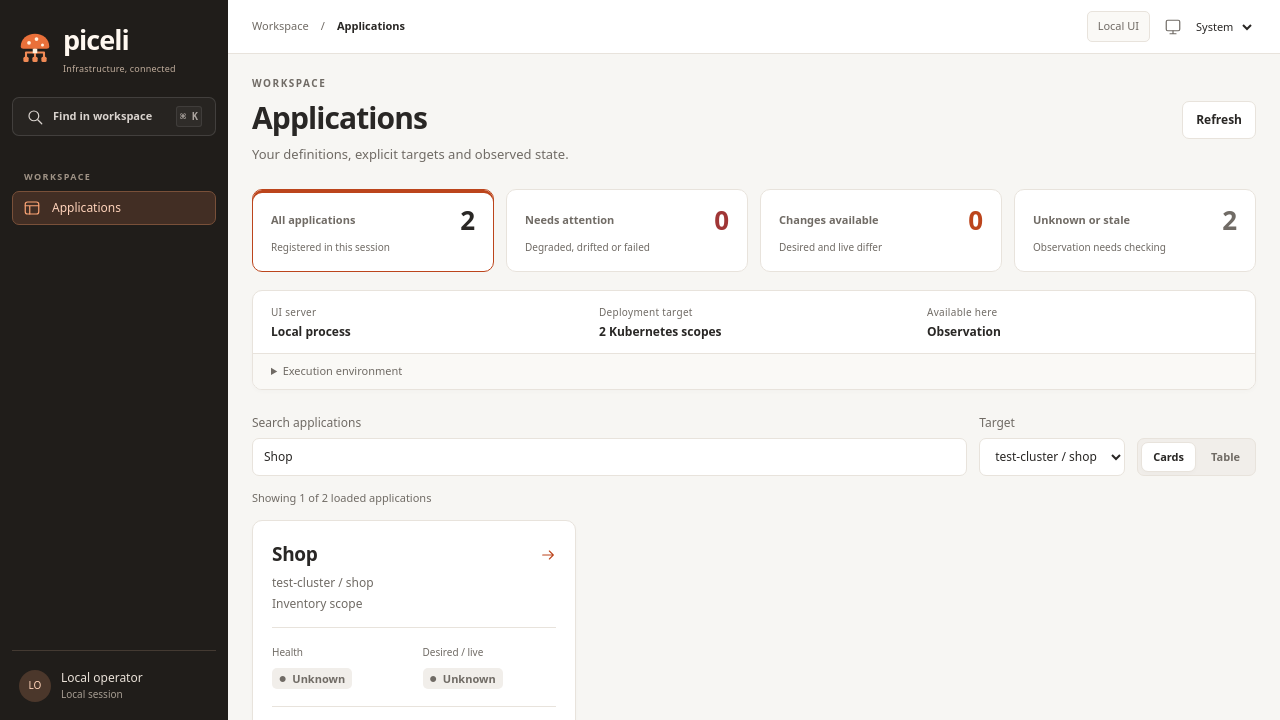
Test case: navigation and session capabilities › combines deep-linked application search and target filters without losing either
Check: the link "Shop" is shown, box [272, 540, 556, 569]
Check: the link "Tools" is not shown
Select "test-cluster / tools" in the dropdown labelled "Target" at point(1052, 457), box [979, 438, 1125, 476]
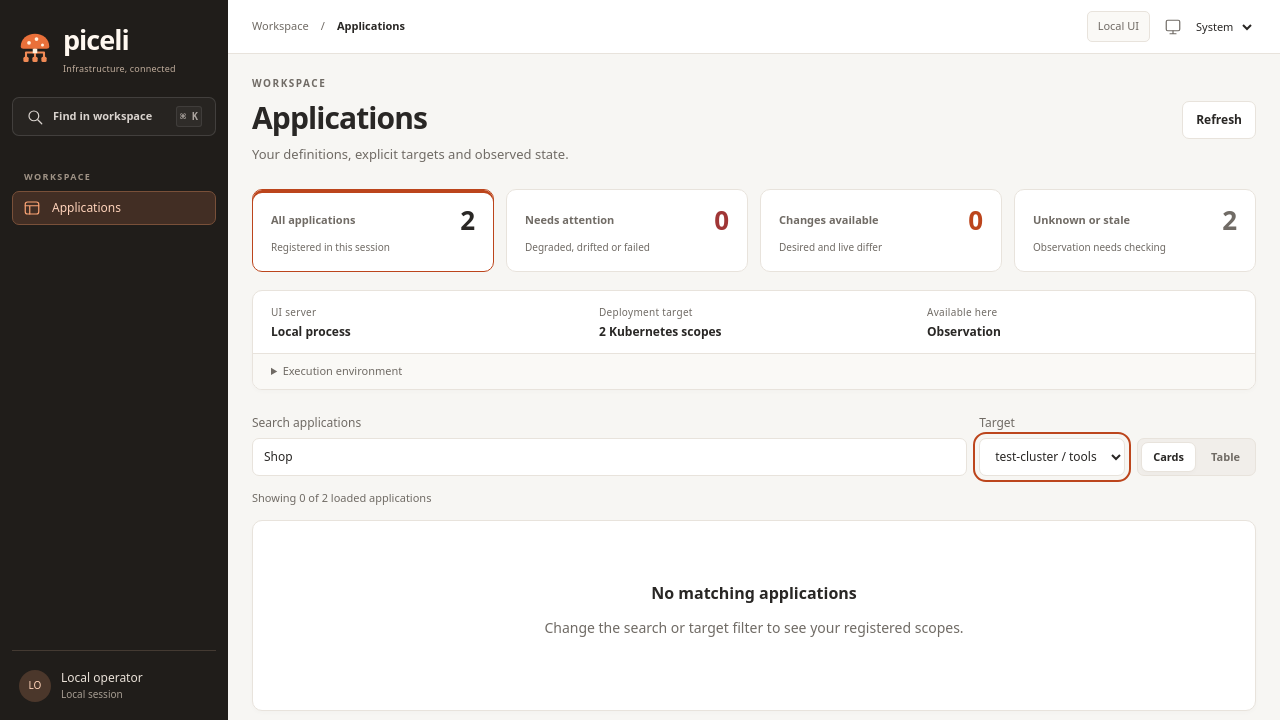
Check: the heading "No matching applications" is shown, box [651, 582, 857, 604]
Clear the search field labelled "Search applications" at point(610, 457), box [252, 438, 967, 476]
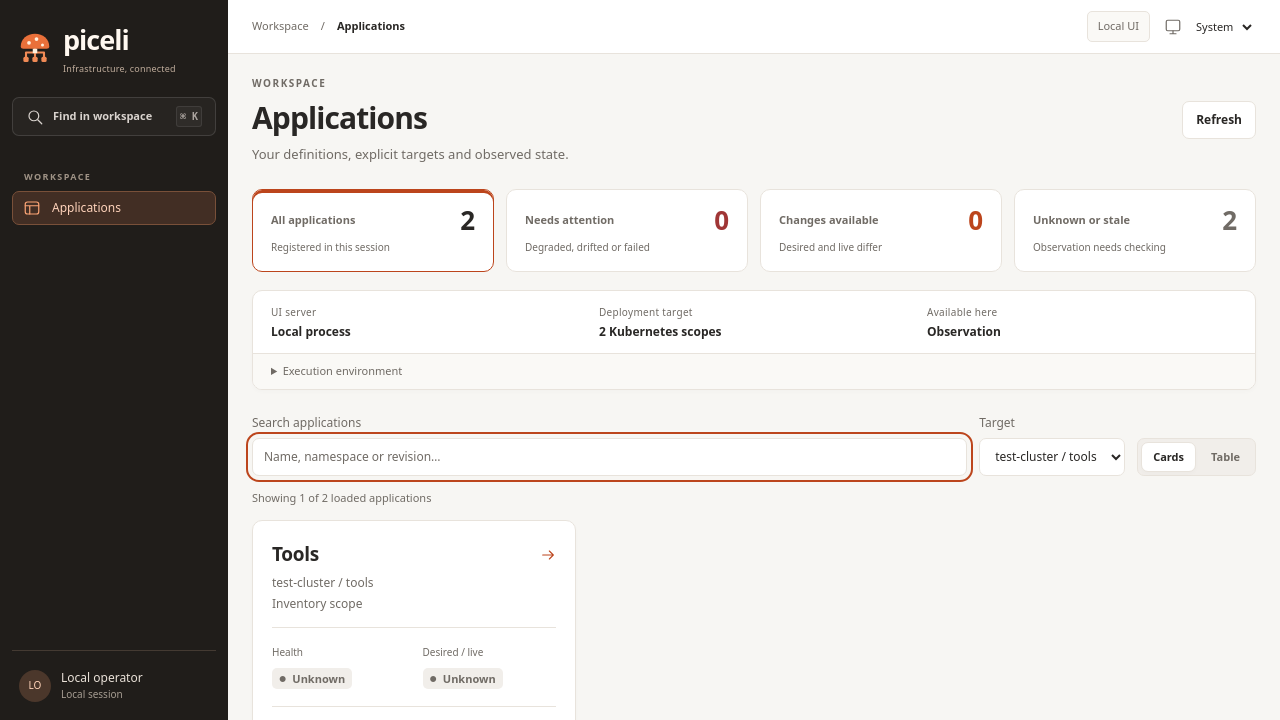
Check: the link "Tools" is shown, box [272, 540, 556, 569]
